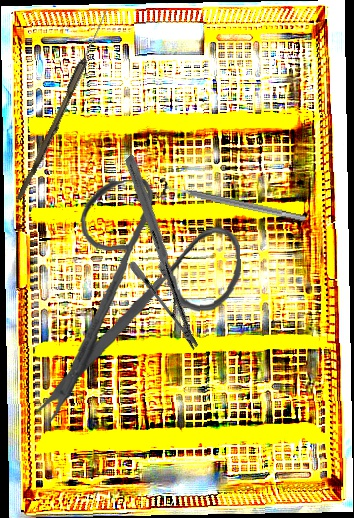Fixation Ring: (156, 176, 308, 231)
Iris Scissors: (19, 172, 252, 425)
Needle Holder: (60, 153, 264, 352)
Surgical Spoon: (16, 7, 111, 203)
